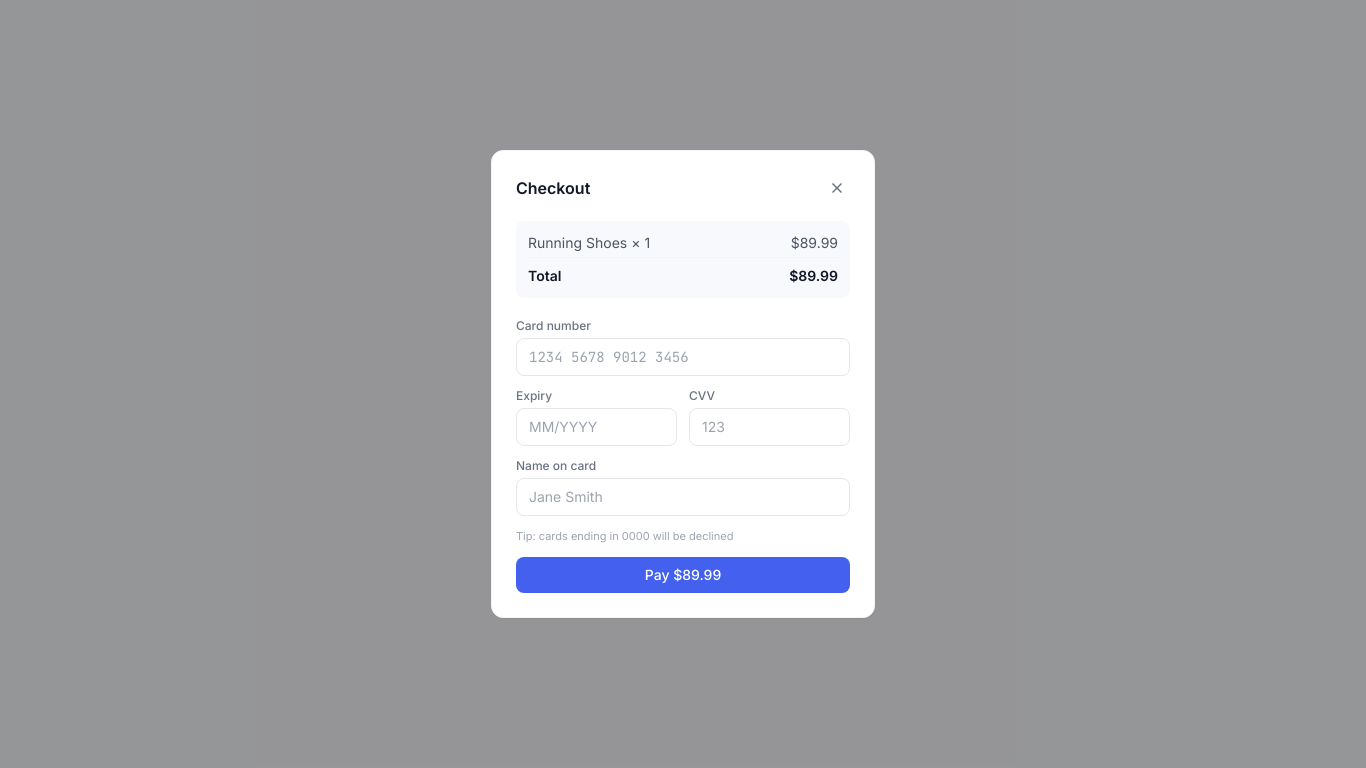
Test: CheckoutModal › expiry validation (MM/YYYY) › rejects an incomplete expiry (missing year digits)
Type "1230" into the field with placeholder "MM/YYYY" at (596, 427), box left=516, top=408, right=677, bottom=446
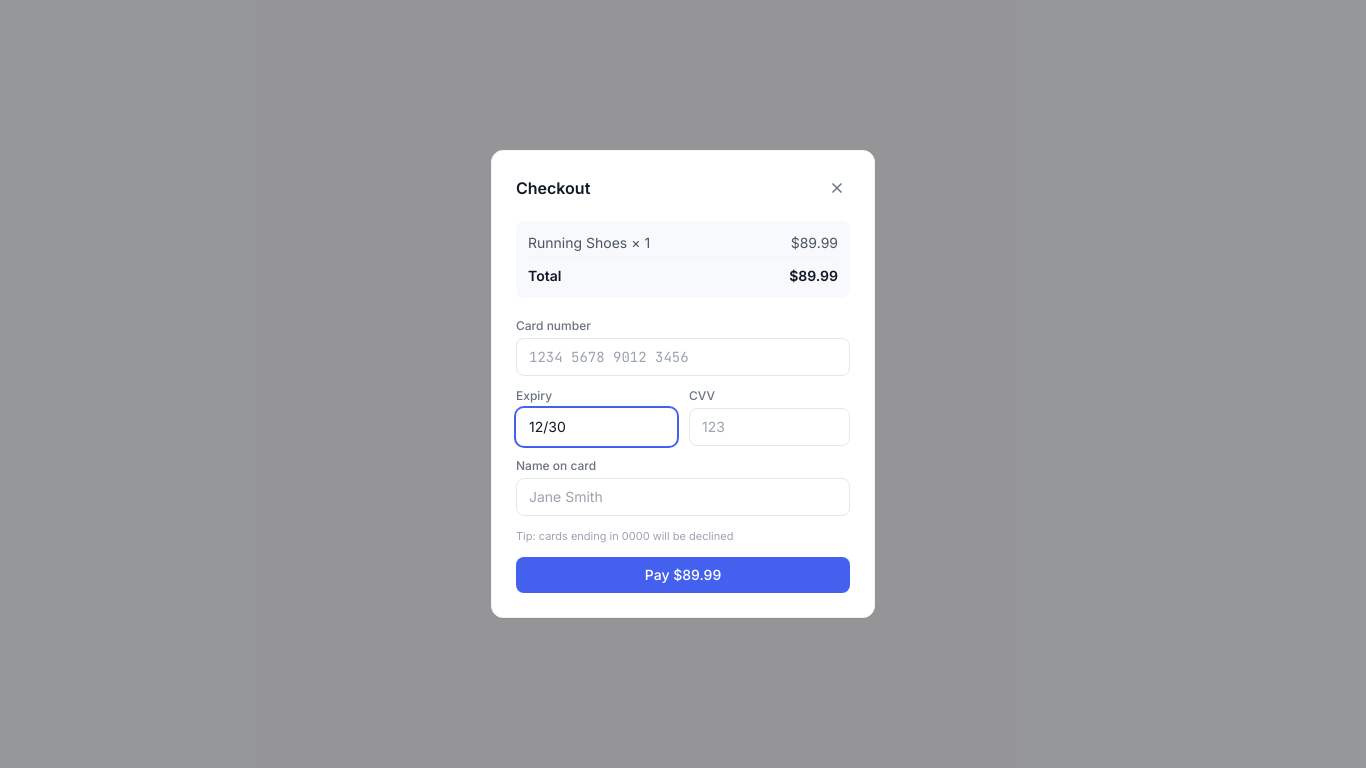
Click the button "Pay $89.99" at (683, 575), box left=516, top=557, right=850, bottom=593
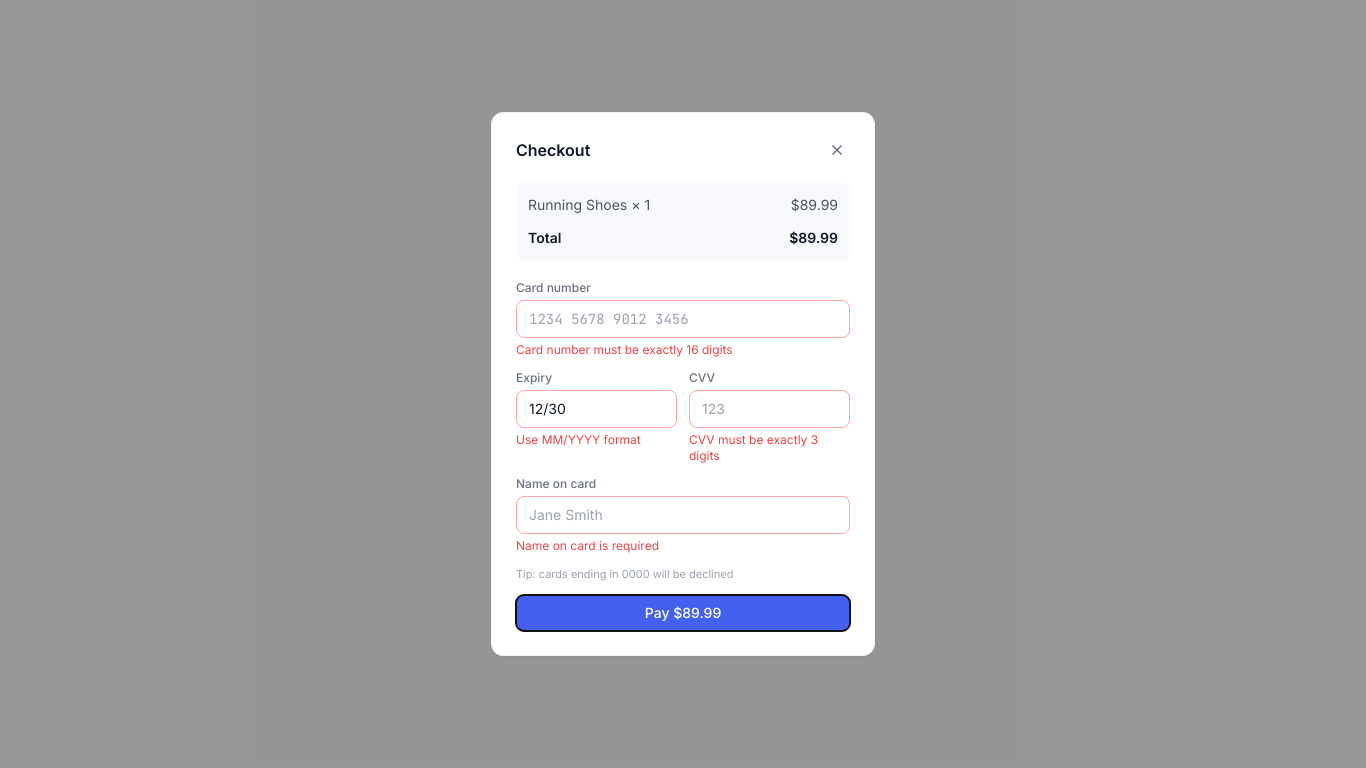
Check: the text "Use MM/YYYY format" is shown, box left=516, top=432, right=641, bottom=447
